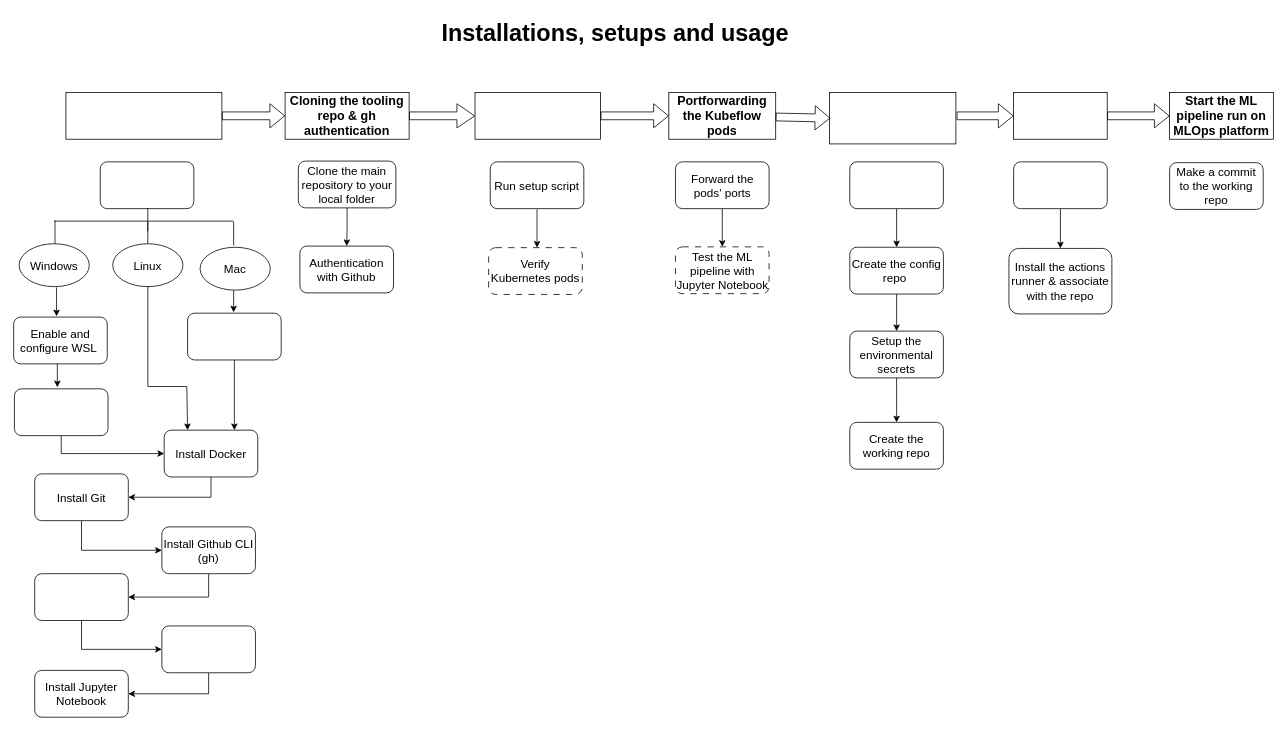
This 1287x731 diagram has some shape labels left out. The shapes that lost their labels are listed below. From the top down, each one's centre as x and y in pixels, then its label:
At (x=143, y=115): "Pre - Installation Setup".
At (x=537, y=115): "Installing local MLOps platform".
At (x=892, y=118): "Setup repositories and CI/CD pipelines with the tool".
At (x=1060, y=115): "Setup Github Actions Runner".
At (x=146, y=185): "Check System Requirements".
At (x=896, y=185): "Create a Github organization".
At (x=1060, y=185): "Enable the Github actions".
At (x=234, y=336): "Install Homebrew".
At (x=61, y=412): "Install Ubuntu".
At (x=81, y=596): "Install Python and pip".
At (x=208, y=649): "Install Kubernetes CLI".
